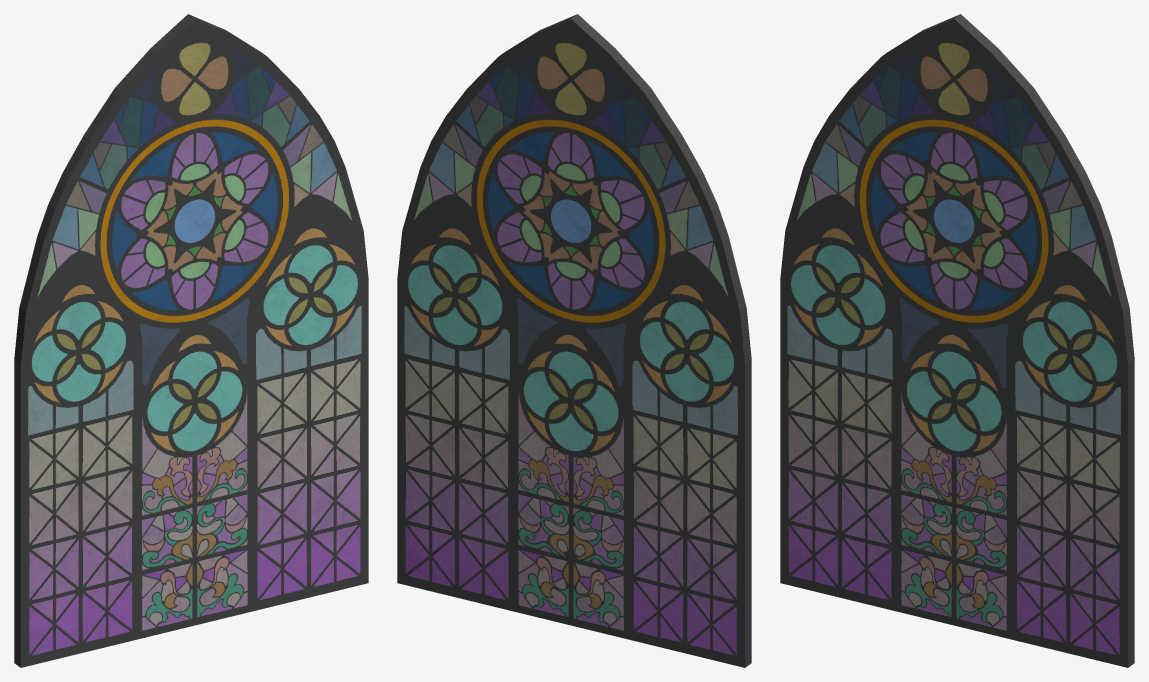
File: sb_obj_outdoor020_Stainedglass_02.fbx
3 views of the same model, side by side, from view 1: azimuth 30°, elevation 25°; view 2: azimuth 150°, elevation 25°; view 3: azimuth 330°, elevation 25° (orthographic).
Parts seen in each view (by area): view 1: stainedglass_02; view 2: stainedglass_02; view 3: stainedglass_02.
Boxes of the visible parts, box(x1,y1,x2,y2) form: stainedglass_02: box(14, 14, 368, 667); stainedglass_02: box(397, 14, 751, 667); stainedglass_02: box(780, 14, 1134, 667).
Size of the model in its own units: 3 by 5 by 0.1.
